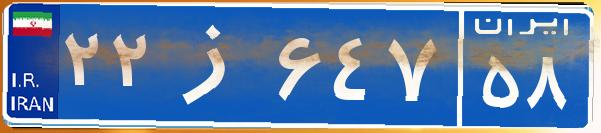2: (57, 26, 110, 107), (110, 28, 158, 105)
4: (330, 28, 385, 110)
5: (475, 38, 525, 113)
6: (273, 28, 330, 110)
7: (385, 28, 445, 110)
8: (525, 38, 570, 115)
ز: (158, 15, 273, 115)
